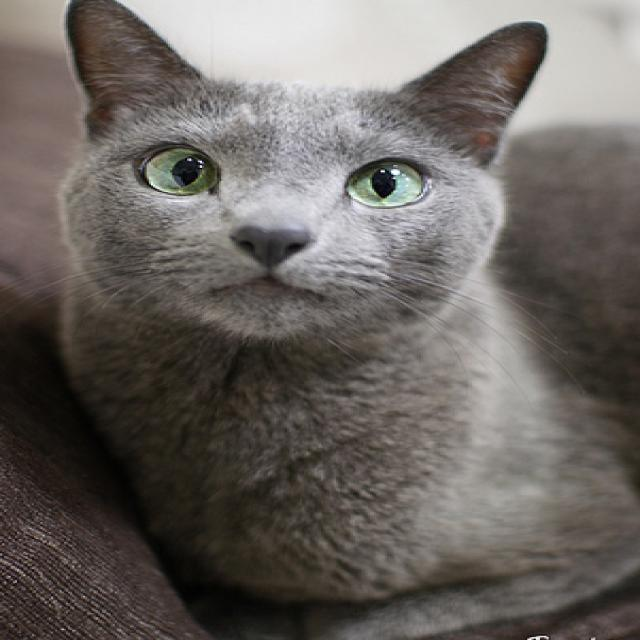Russian Blue: (47, 0, 640, 640)
